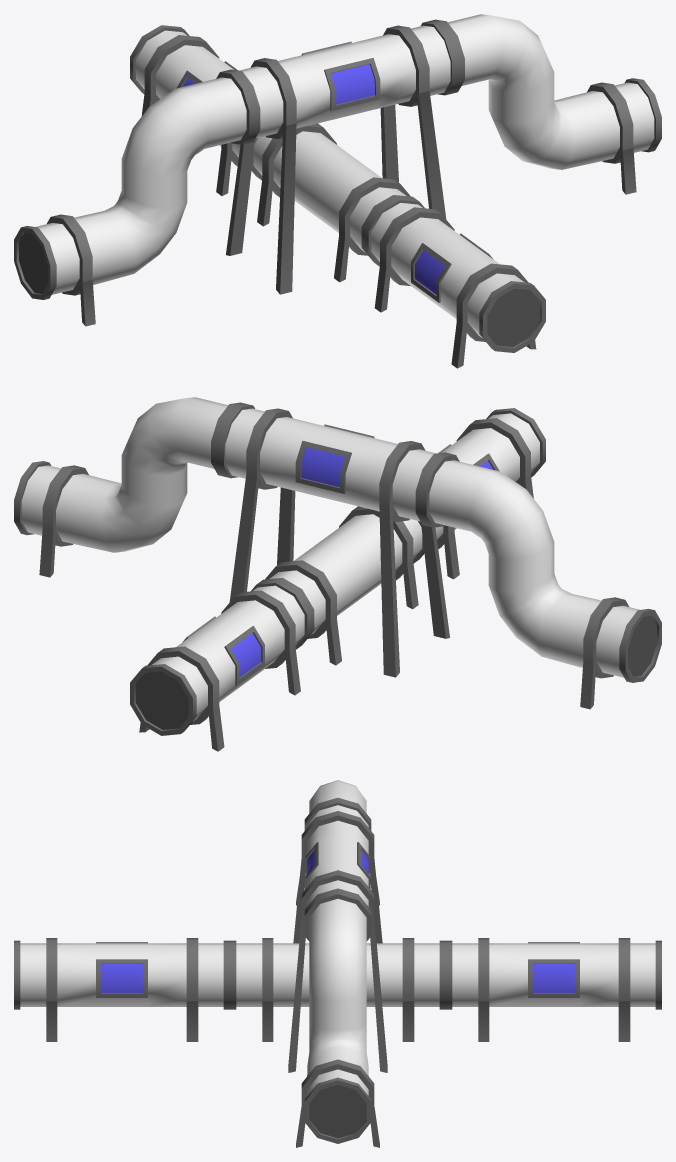
The model's file is PipeBridge.fbx.
3 renders of one model, top to bottom at view 1: azimuth 30°, elevation 25°; view 2: azimuth 150°, elevation 25°; view 3: azimuth 270°, elevation 25°, orthographic. The views are drawn at different scales.
Parts seen in each view (by area): view 1: PipeBridge, Fluid_2, Fluid; view 2: PipeBridge, Fluid_2, Fluid_3; view 3: PipeBridge, Fluid, Fluid_3.
Part boxes in pixels (bbox=[...]): PipeBridge: bbox=[14, 14, 661, 368]; Fluid_2: bbox=[331, 64, 374, 104]; Fluid: bbox=[415, 250, 444, 294]; PipeBridge: bbox=[14, 397, 661, 751]; Fluid_2: bbox=[301, 447, 344, 487]; Fluid_3: bbox=[231, 633, 260, 677]; PipeBridge: bbox=[14, 780, 661, 1147]; Fluid: bbox=[100, 964, 143, 993]; Fluid_3: bbox=[532, 964, 575, 993].
Bounding box in the file's own units: 300 × 98.1 × 300.
